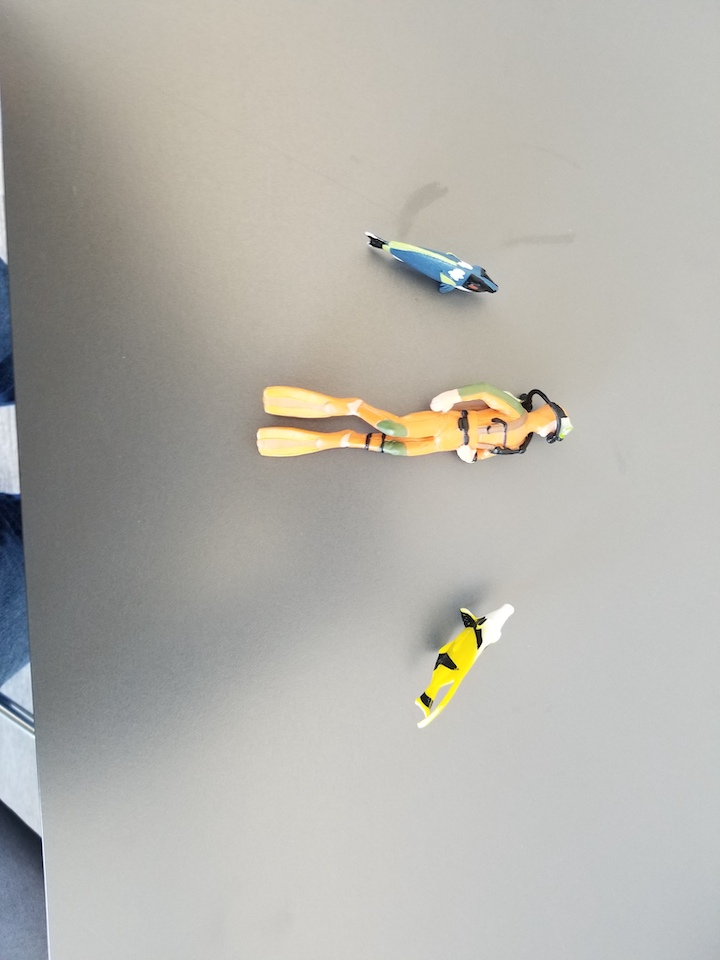danger: (414, 603, 513, 726)
diver: (254, 380, 577, 467)
fish: (362, 231, 499, 298)
